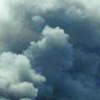smoke: (3, 3, 97, 97)
